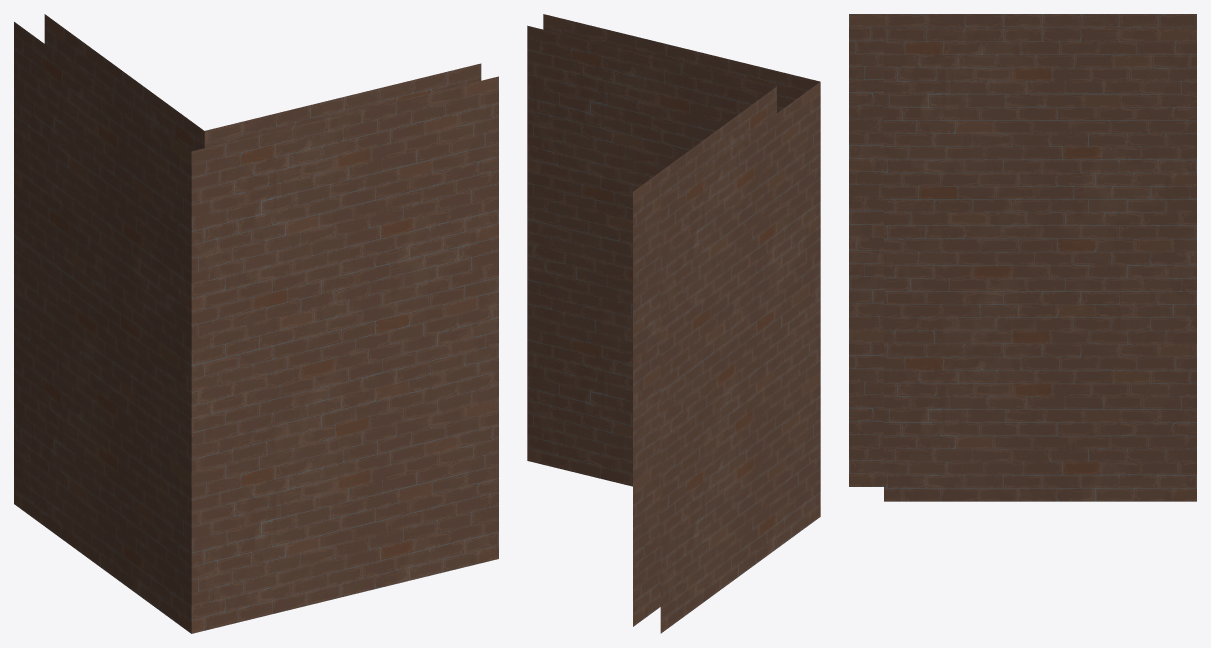
The model's file is q-downtown-brick-corner-plain.glb.
The picture shows the model from 3 angles, left to right: view 1: azimuth 30°, elevation 25°; view 2: azimuth 150°, elevation 25°; view 3: azimuth 270°, elevation 25°; orthographic projection. The views are drawn at different scales.
Visible parts, largest first — view 1: Brick_Corner_Plain; view 2: Brick_Corner_Plain; view 3: Brick_Corner_Plain.
Boxes of the visible parts, x1=… form: Brick_Corner_Plain: x1=14, y1=14, x2=498, y2=633; Brick_Corner_Plain: x1=527, y1=14, x2=820, y2=633; Brick_Corner_Plain: x1=849, y1=14, x2=1196, y2=501.
Bounding box in the file's own units: 2 × 3 × 2.
2 materials, 2 textured.
